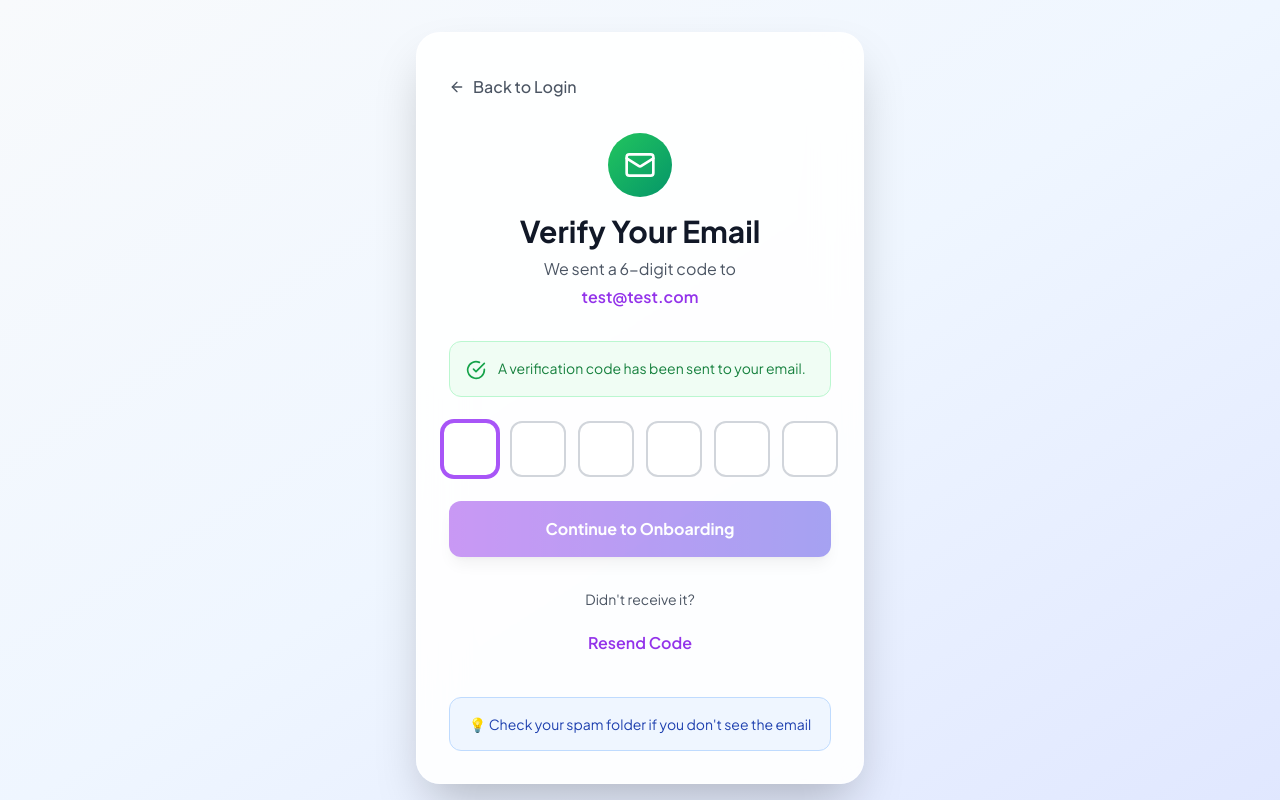
Test: OTPVerificationPage › verification › shows error for incomplete OTP
In the field with id "otp-0": coordinates (470, 449) [442,421,498,477], type "1"
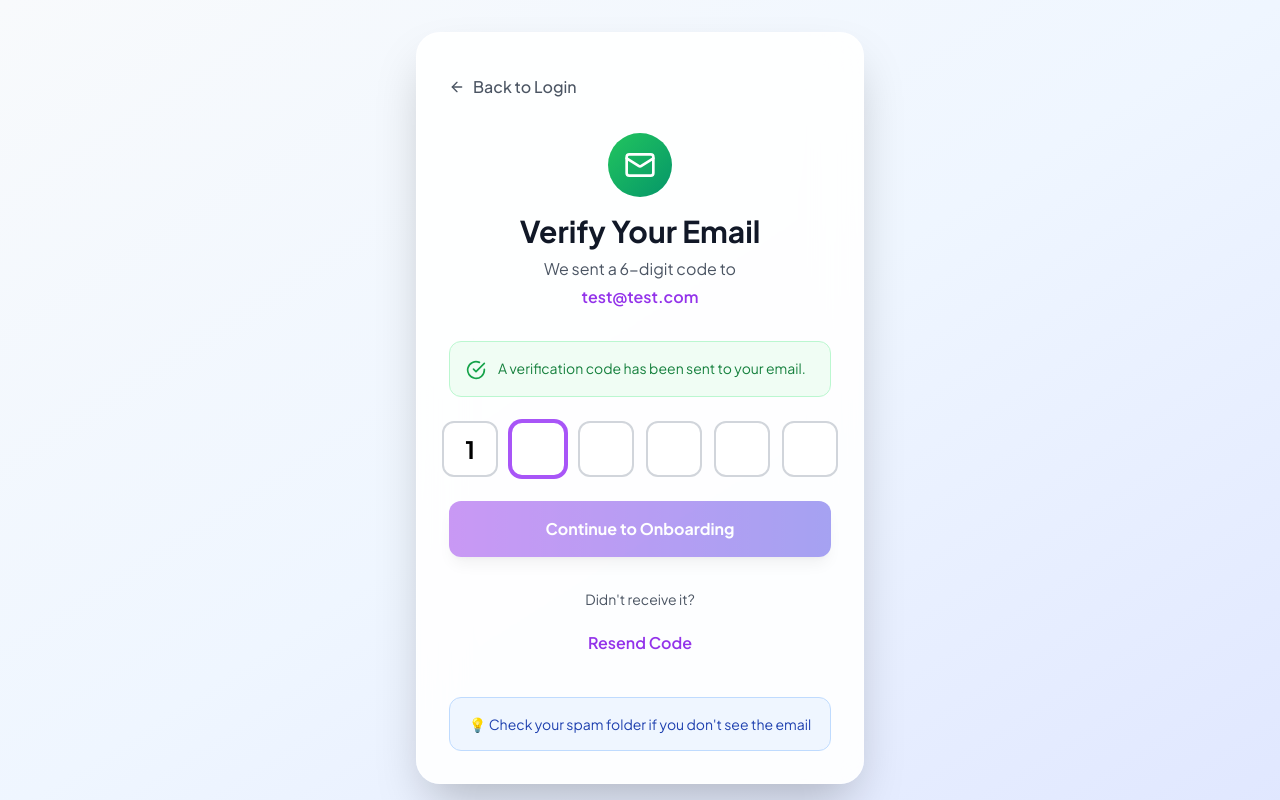
In the field with id "otp-1": coordinates (538, 449) [510,421,566,477], type "2"
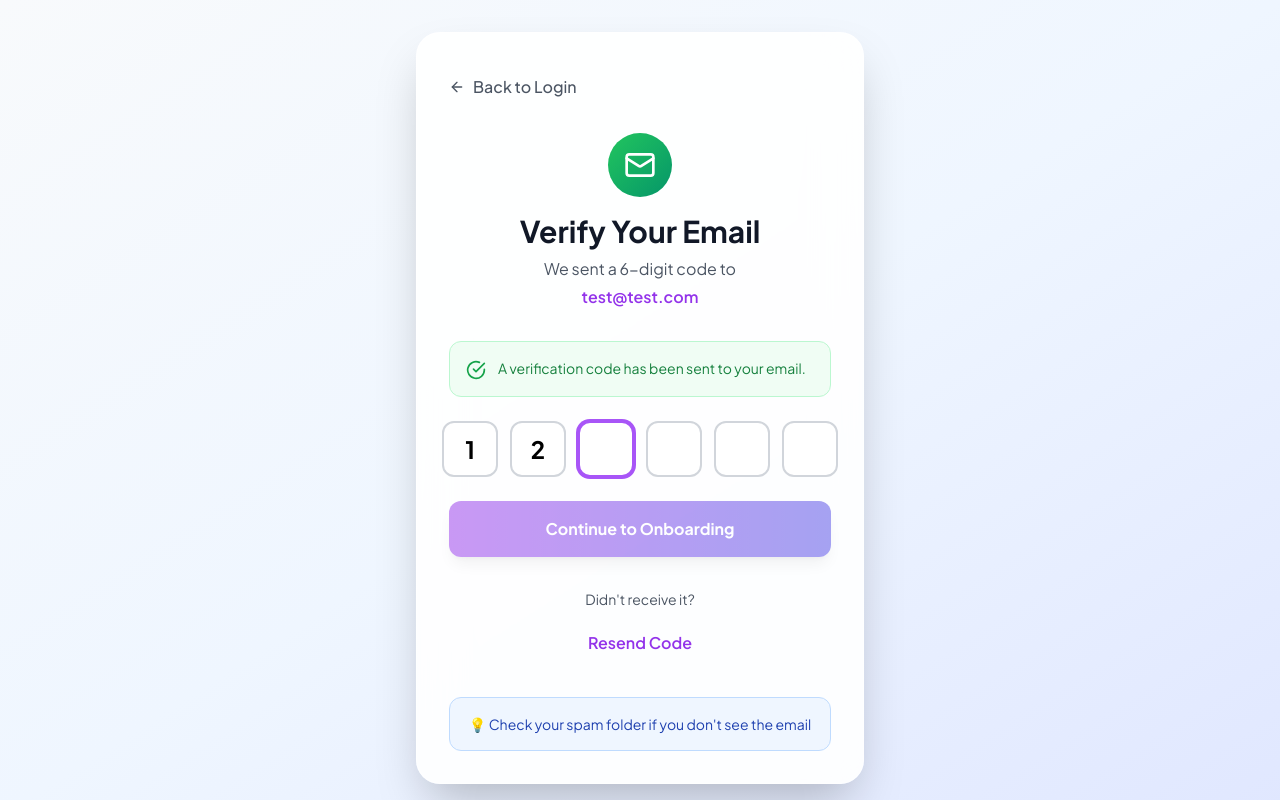
In the 3rd field: coordinates (606, 449) [578,421,634,477], type "3"
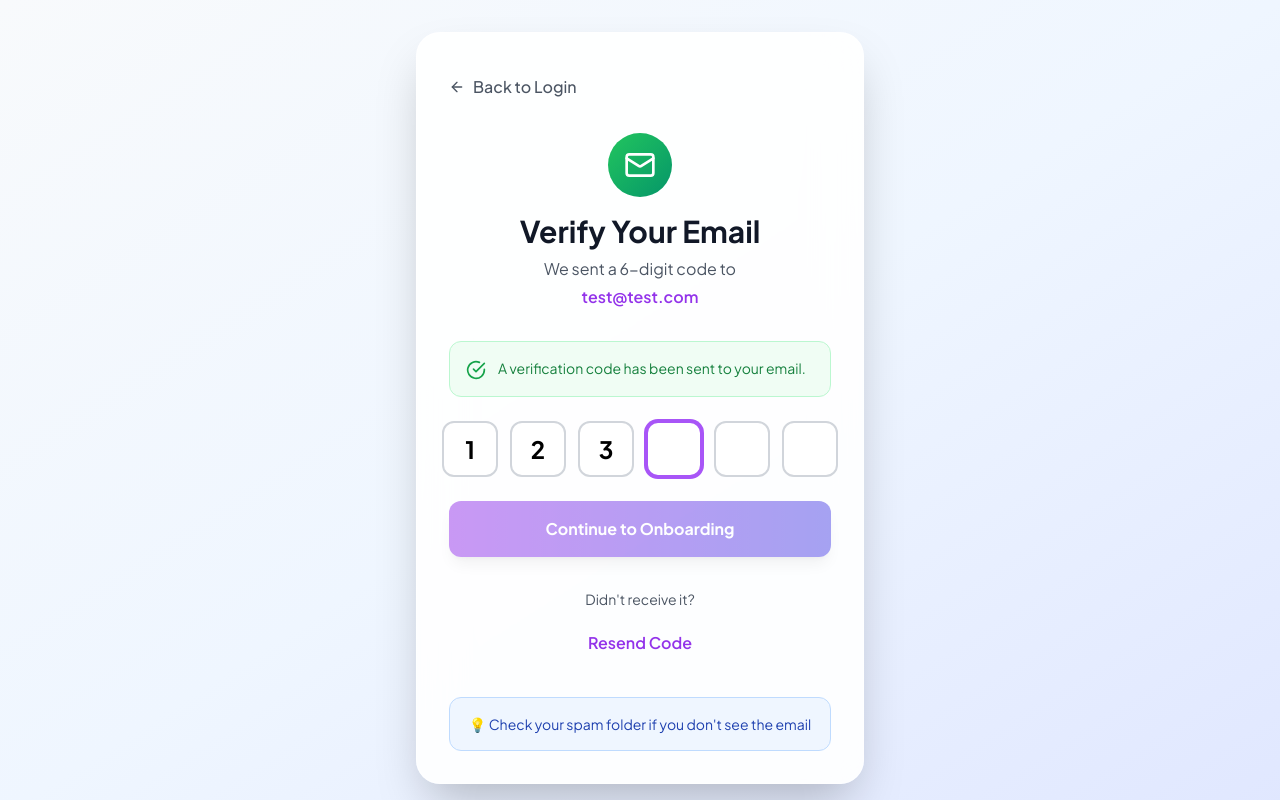
Submit the form "Continue to Onboarding", box [449,421,831,557]
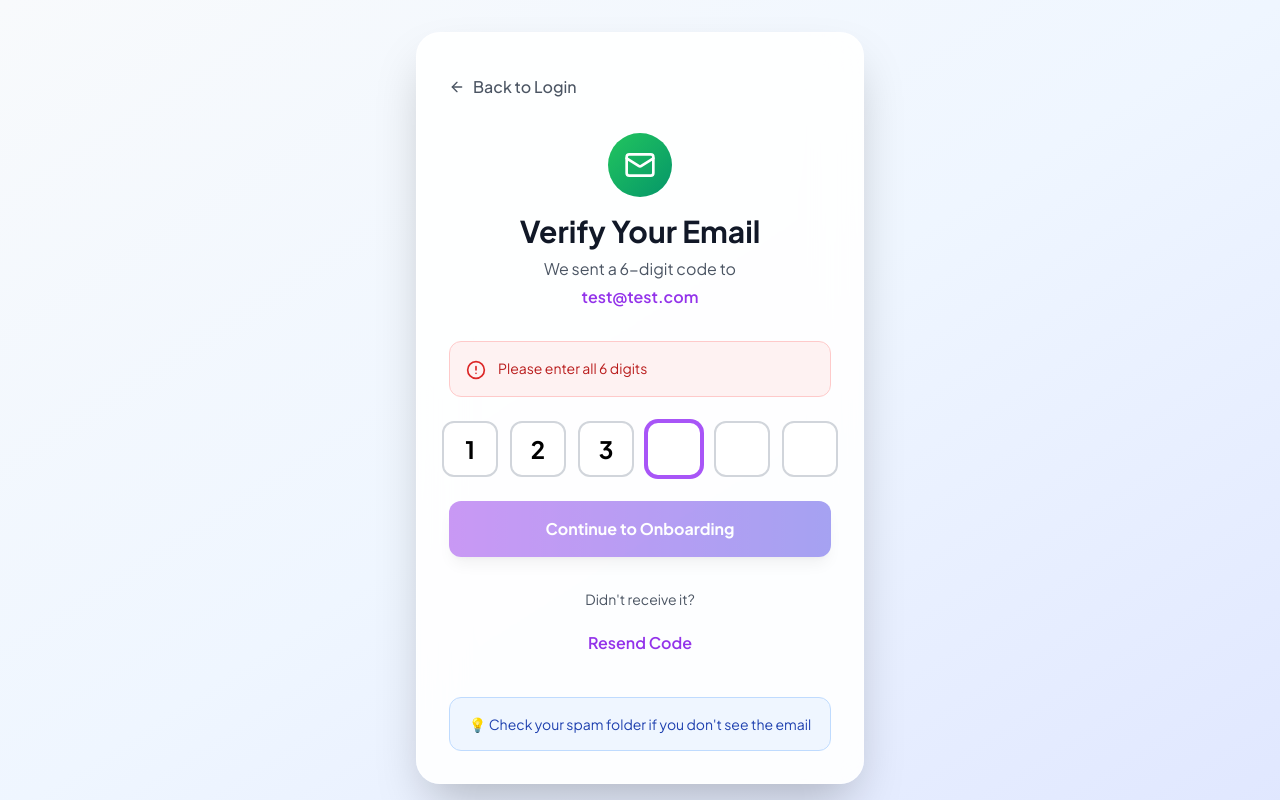
Expected: the text "Please enter all 6 digits" is shown, [498,358,647,378]
